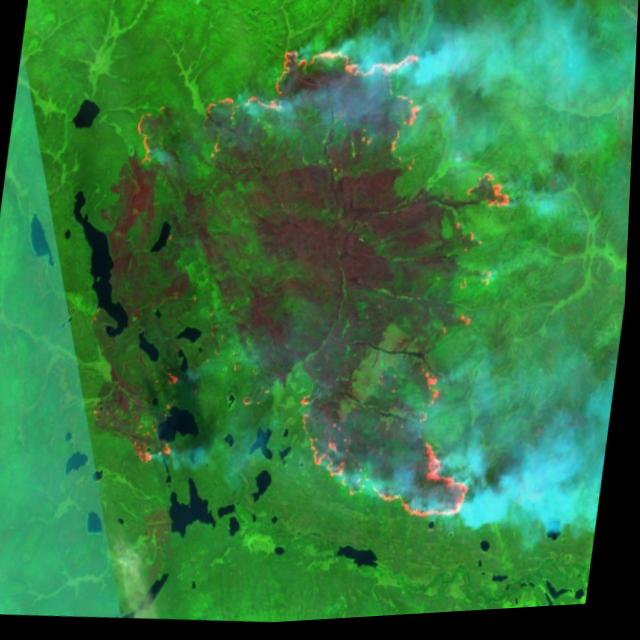fire: (88, 12, 536, 551)
